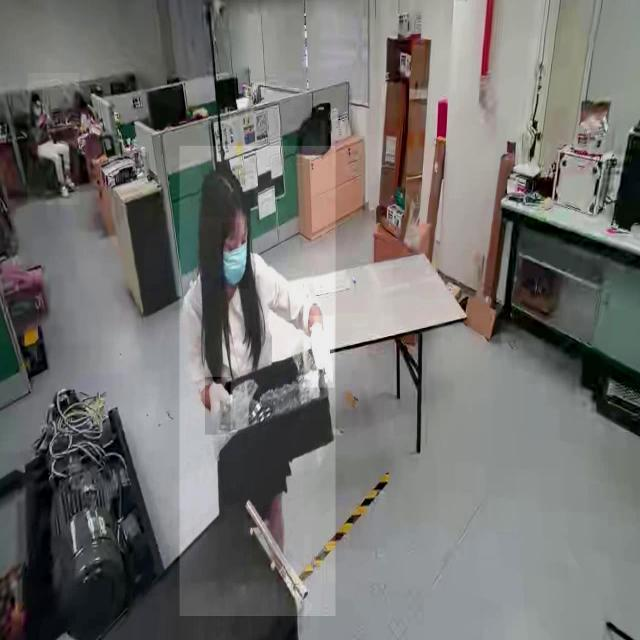face_mask: (221, 222, 249, 289)
hand_glove: (304, 316, 334, 388), (204, 377, 230, 435)
head_nohelmet: (201, 165, 254, 218), (31, 90, 43, 102)
person: (179, 146, 335, 617), (27, 73, 79, 205)
